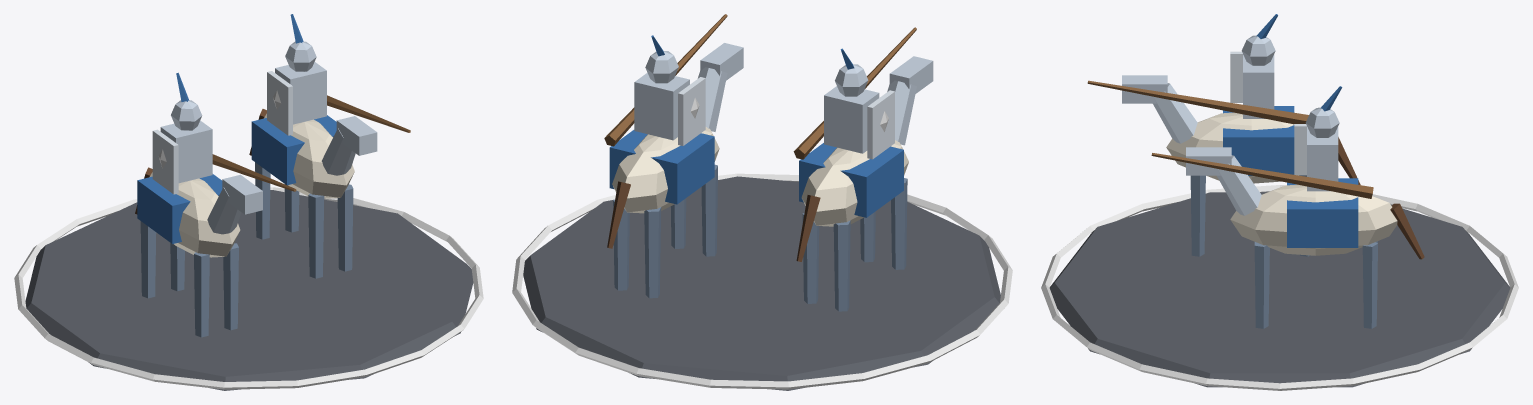
The model's file is battleship.fbx.
3 views of the same model, side by side, from view 1: azimuth 30°, elevation 25°; view 2: azimuth 150°, elevation 25°; view 3: azimuth 270°, elevation 25° (orthographic). The views are drawn at different scales.
Visible parts, largest first — view 1: battleship; view 2: battleship; view 3: battleship.
Part boxes in pixels (x1,y1,x2,y2): battleship: (14,14,483,390); battleship: (512,14,1012,390); battleship: (1041,14,1518,390).
Bounding box in the file's own units: 3.36 × 1.89 × 3.36.
2 materials, 1 textured.
